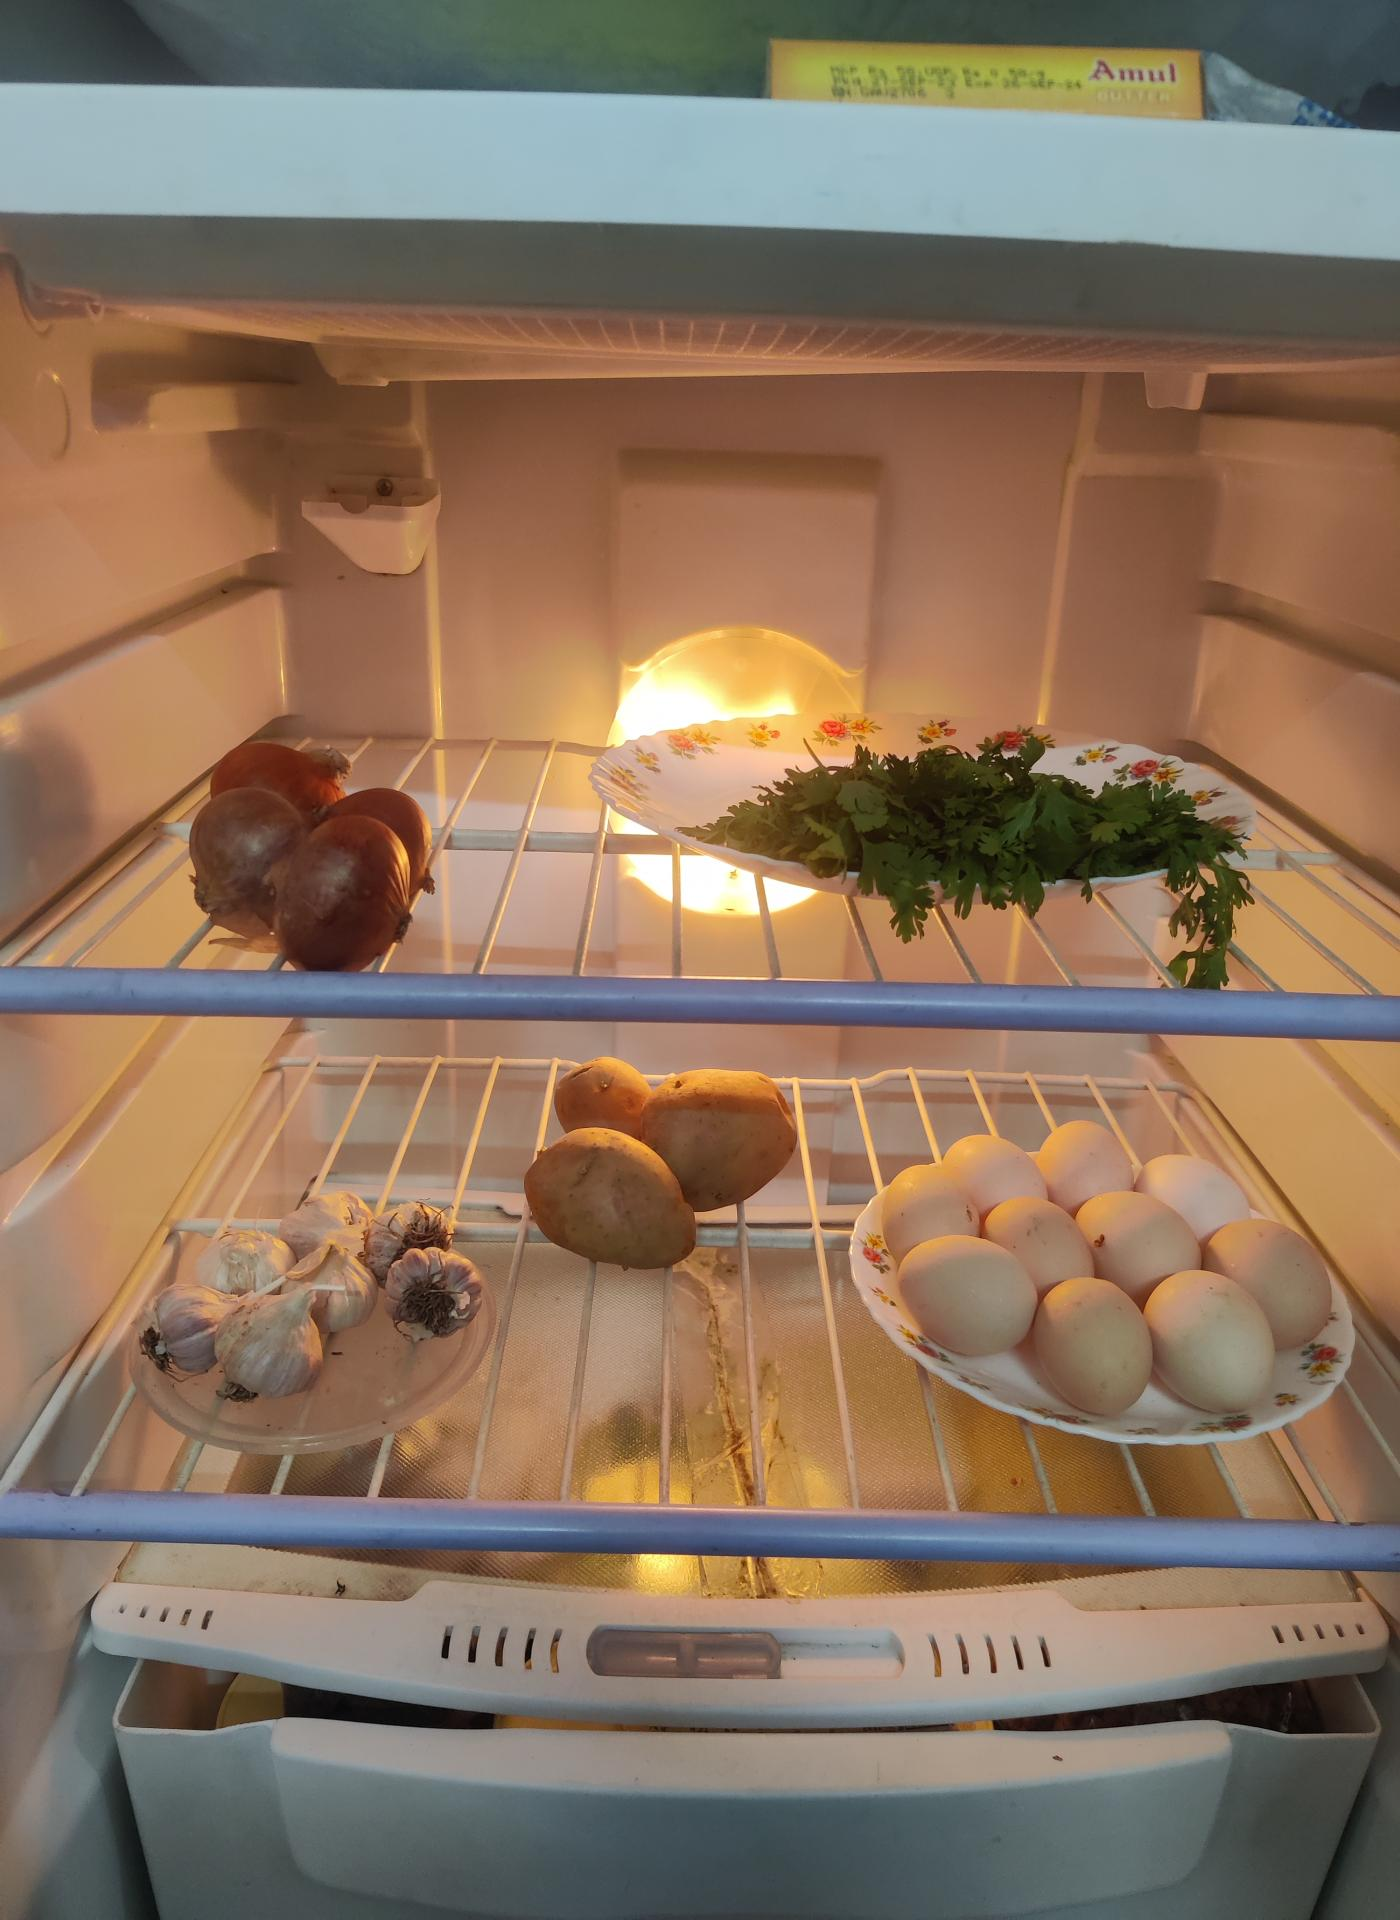coriander: (719, 747, 1246, 906)
egg: (875, 1117, 1348, 1415)
garlic: (151, 1191, 479, 1413)
onion: (186, 738, 434, 967)
potato: (522, 1052, 798, 1258)
